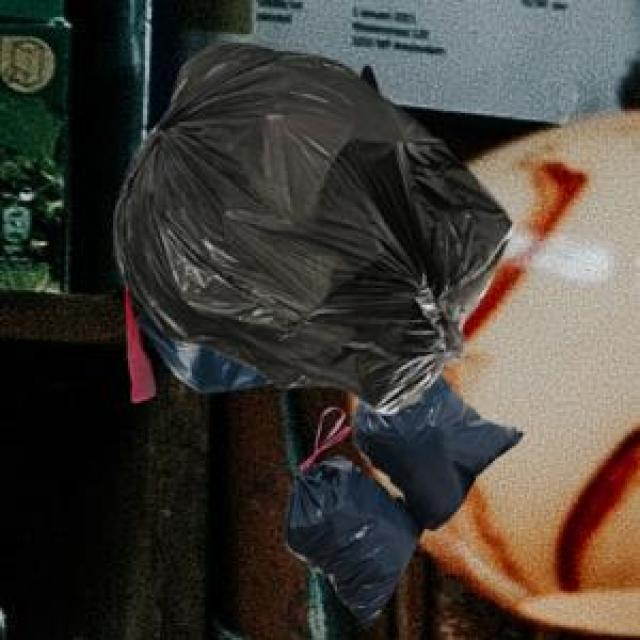Vinyl: (115, 45, 521, 622)
